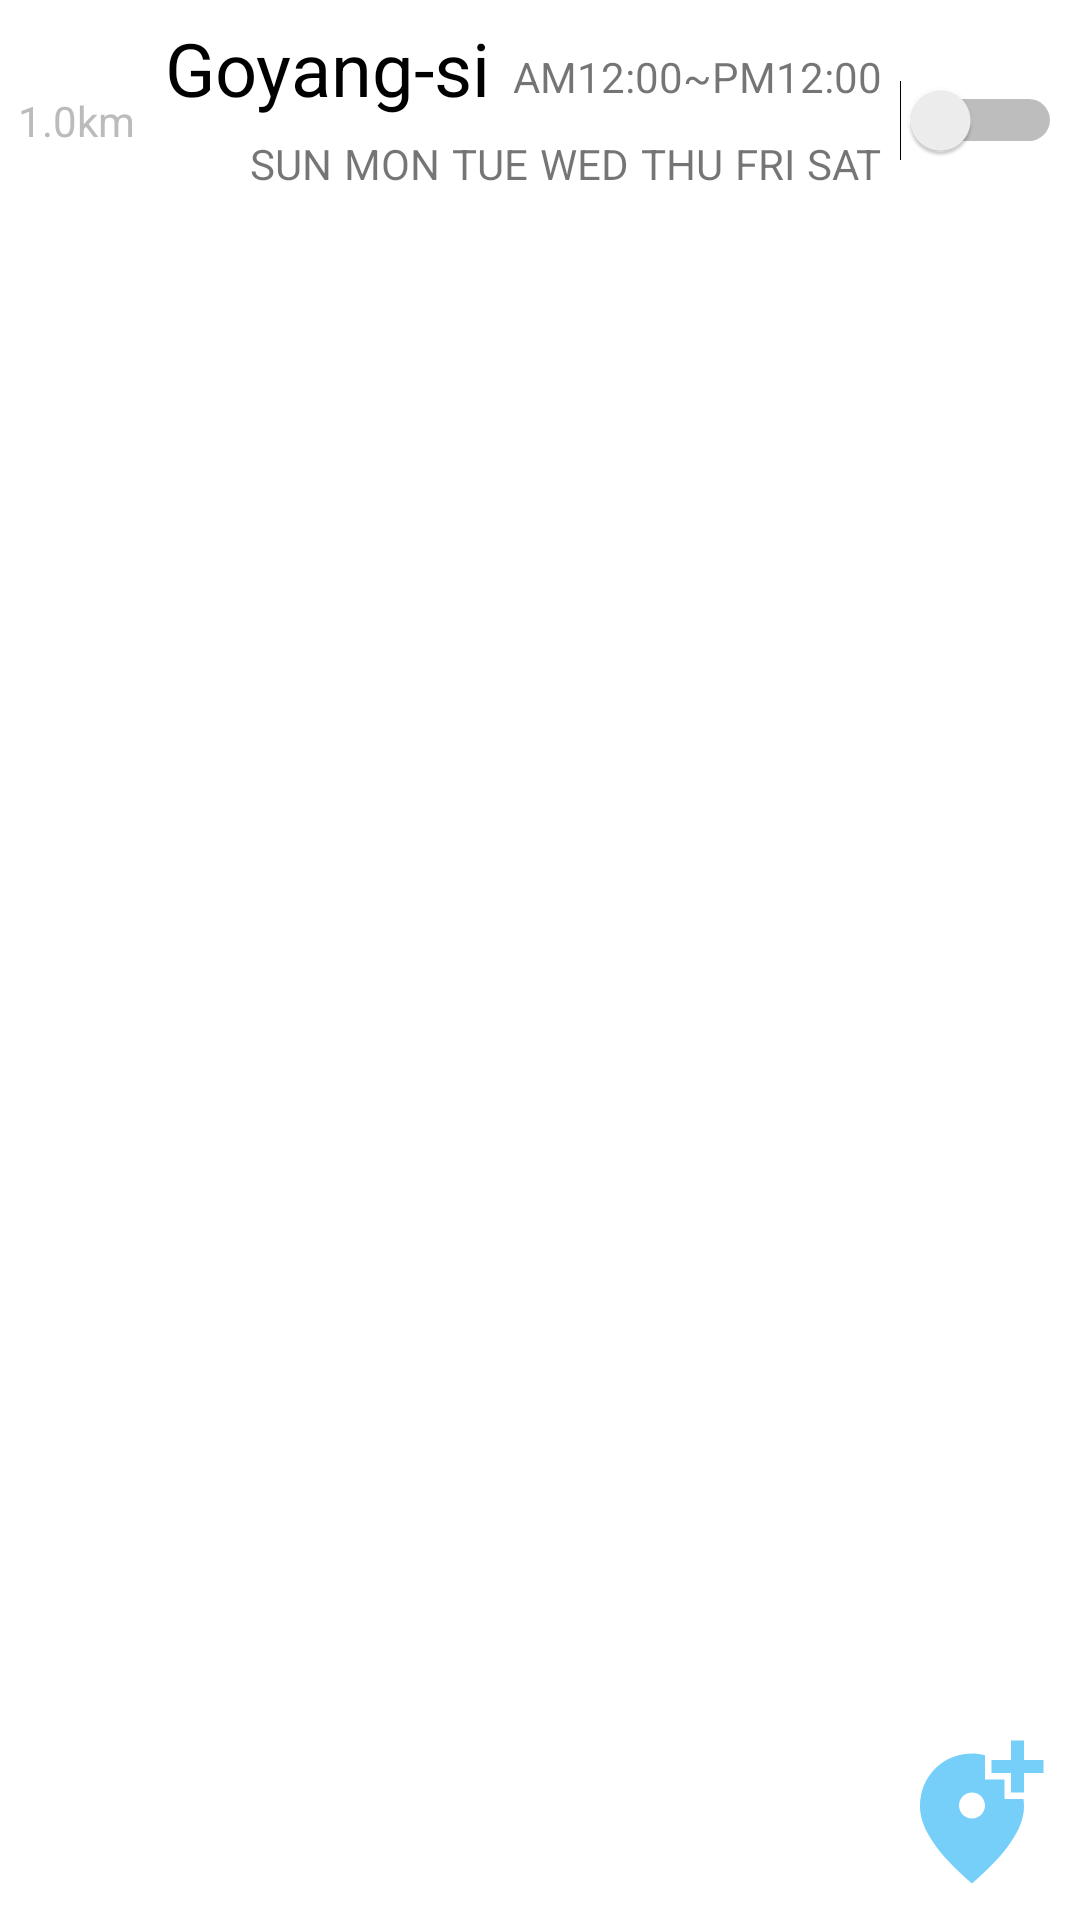

Locate icon controls on the screen. Image size 1080 × 1920, boxes as (x1, y1, x2, y2).
add location: (920, 1740, 1044, 1883)
